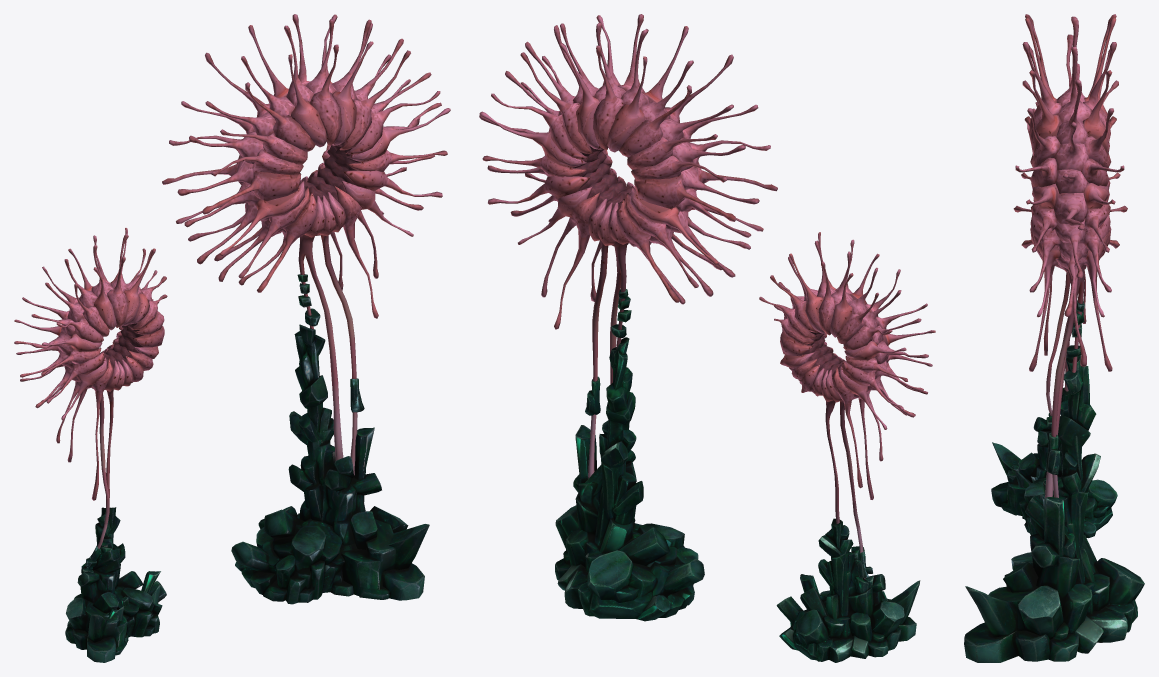
File: eclipse_plant.glb
3 renders of one model, left to right at view 1: azimuth 30°, elevation 25°; view 2: azimuth 150°, elevation 25°; view 3: azimuth 270°, elevation 25°, orthographic. The views are drawn at different scales.
Parts seen in each view (by area): view 1: generic_plant_crystal_tall, generic_plant_crystal_short_1; view 2: generic_plant_crystal_tall, generic_plant_crystal_short_1; view 3: generic_plant_crystal_tall, generic_plant_crystal_short_1.
Boxes of the visible parts, left/top/right/bottom form: generic_plant_crystal_tall: left=162, top=14, right=450, bottom=604; generic_plant_crystal_short_1: left=14, top=228, right=167, bottom=662; generic_plant_crystal_tall: left=479, top=14, right=777, bottom=621; generic_plant_crystal_short_1: left=759, top=232, right=935, bottom=662; generic_plant_crystal_tall: left=964, top=14, right=1144, bottom=662; generic_plant_crystal_short_1: left=991, top=102, right=1117, bottom=538.
Bounding box in the file's own units: 0.0354 × 0.0438 × 0.012.
1 material, 1 textured.
